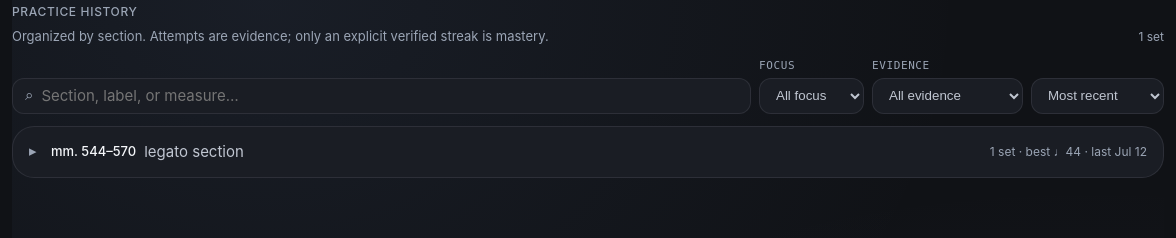
HistoryPanel › shows a clear empty result when a dense-ledger filter has no matching set
This screenshot has width=1176, height=238.
Select "Memory" in the dropdown named "Filter practice history by focus" at (812, 96), box [759,78,864,114]
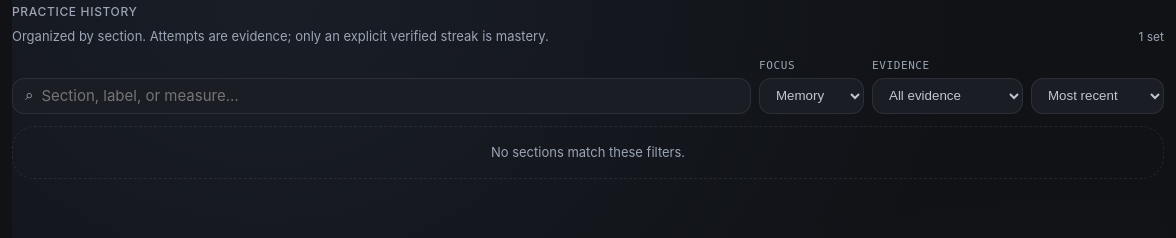
Check: the text "No sections match these filters." is shown, box [12,126,1164,179]
